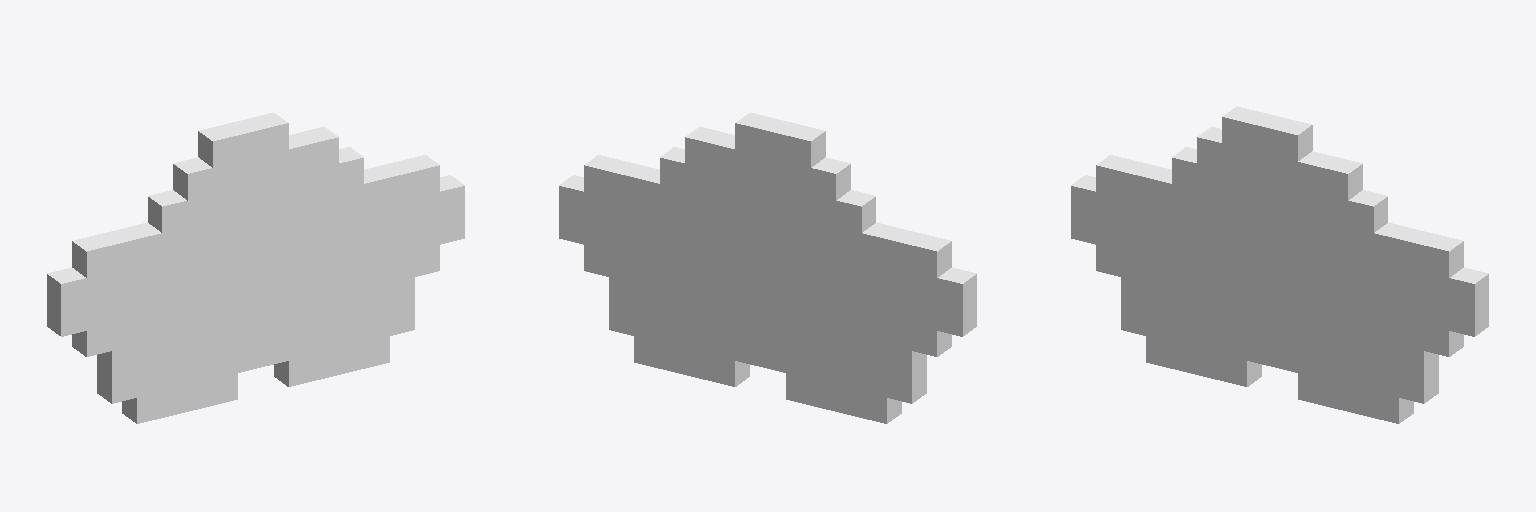
Rendered from boy death.obj.
The picture shows the model from 3 angles: view 1: azimuth 30°, elevation 25°; view 2: azimuth 150°, elevation 25°; view 3: azimuth 330°, elevation 25°; orthographic projection.
Visible parts, largest first — view 1: object 1; view 2: object 1; view 3: object 1.
Boxes of the visible parts, x1,y1,x2,y2 form: object 1: [47, 112, 464, 423]; object 1: [559, 112, 976, 423]; object 1: [1071, 106, 1488, 423].
Size of the model in its own units: 1.6 by 1 by 0.1.